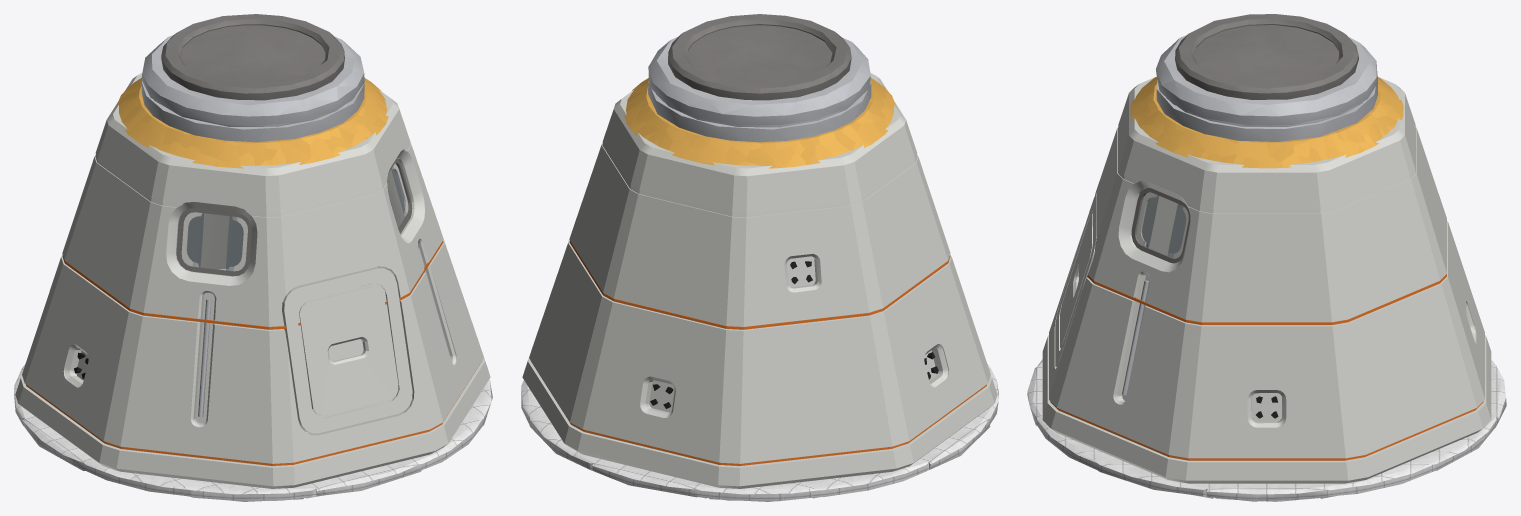
The model's file is ax_cmd_02_kestrel_capsule.glb.
The picture shows the model from 3 angles, left to right: view 1: azimuth 30°, elevation 25°; view 2: azimuth 150°, elevation 25°; view 3: azimuth 270°, elevation 25°; orthographic projection.
Parts seen in each view (by area): view 1: shell, hatch_door_1, nose_cap, heat_shield, mli_crown, docking_hatch, docking_port, orange_stripes, window_glass, window_frames, handrails; view 2: shell, nose_cap, heat_shield, mli_crown, docking_hatch, docking_port, orange_stripes; view 3: shell, nose_cap, heat_shield, mli_crown, docking_hatch, docking_port, hatch_door_1, orange_stripes, window_glass, window_frames, handrails.
Part boxes in pixels (x1=…): shell: x1=15, y1=73, x2=490, y2=488; hatch_door_1: x1=282, y1=266, x2=412, y2=433; nose_cap: x1=141, y1=35, x2=364, y2=142; heat_shield: x1=14, y1=364, x2=492, y2=501; mli_crown: x1=116, y1=78, x2=388, y2=168; docking_hatch: x1=180, y1=25, x2=325, y2=83; docking_port: x1=161, y1=14, x2=344, y2=100; orange_stripes: x1=26, y1=241, x2=481, y2=465; window_glass: x1=187, y1=167, x2=406, y2=270; window_frames: x1=176, y1=158, x2=412, y2=276; handrails: x1=198, y1=248, x2=450, y2=416; shell: x1=522, y1=73, x2=997, y2=488; nose_cap: x1=648, y1=36, x2=871, y2=142; heat_shield: x1=521, y1=364, x2=998, y2=501; mli_crown: x1=624, y1=78, x2=896, y2=168; docking_hatch: x1=687, y1=25, x2=832, y2=83; docking_port: x1=668, y1=14, x2=851, y2=100; orange_stripes: x1=531, y1=241, x2=986, y2=465; shell: x1=1042, y1=76, x2=1491, y2=483; nose_cap: x1=1156, y1=35, x2=1378, y2=141; heat_shield: x1=1027, y1=359, x2=1506, y2=501; mli_crown: x1=1130, y1=76, x2=1403, y2=168; docking_hatch: x1=1194, y1=25, x2=1338, y2=83; docking_port: x1=1175, y1=14, x2=1358, y2=99; hatch_door_1: x1=1055, y1=194, x2=1096, y2=367; orange_stripes: x1=1050, y1=274, x2=1483, y2=460; window_glass: x1=1141, y1=195, x2=1186, y2=257; window_frames: x1=1131, y1=187, x2=1190, y2=263; handrails: x1=1122, y1=280, x2=1149, y2=395.
Size of the model in its own units: 2.5 by 2.18 by 2.5.
8 materials, 4 textured.
